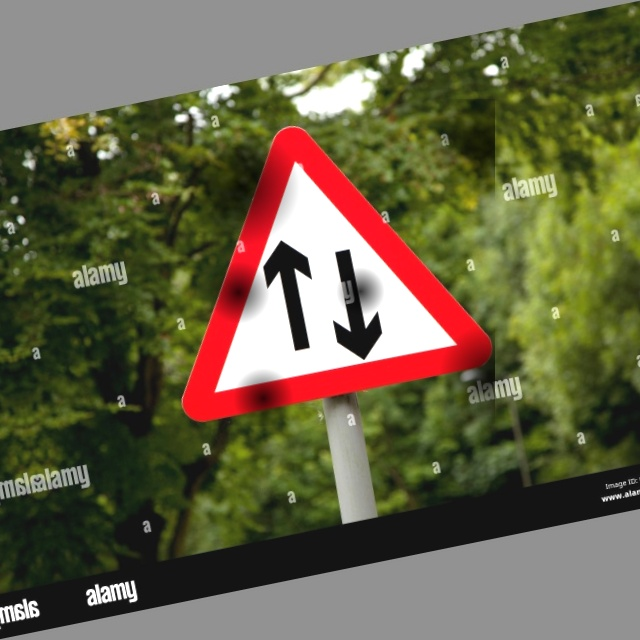Mandatory_Two_Way_Traffic: (131, 99, 495, 426)
